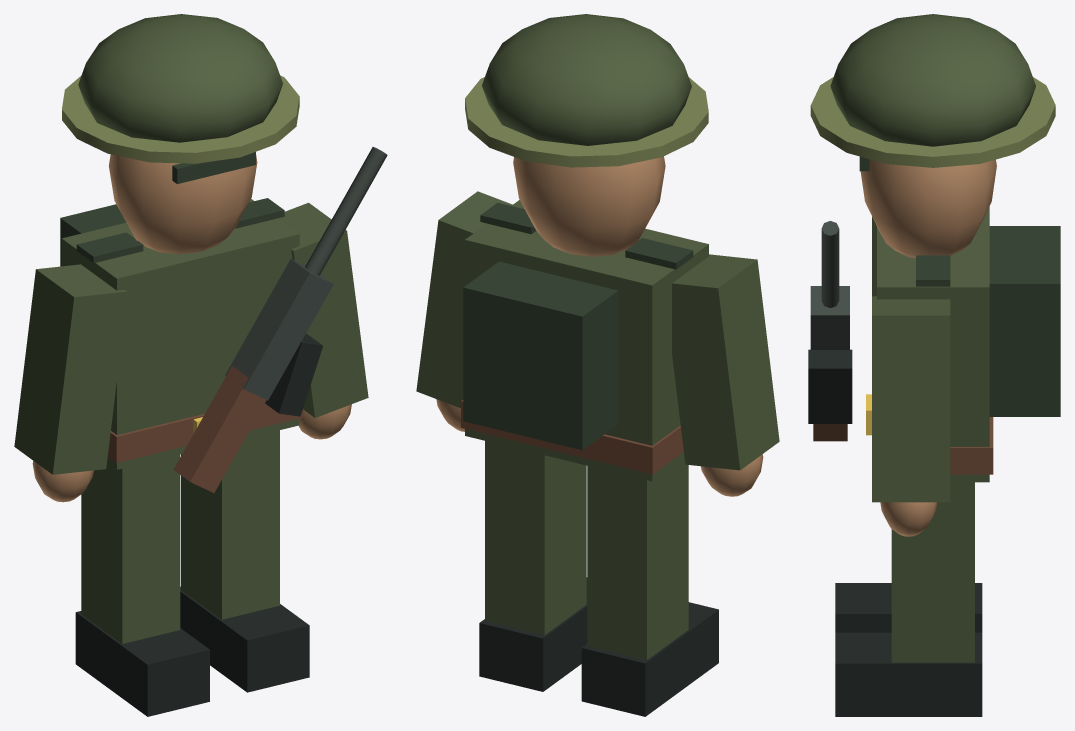
3 views of the same model, side by side, from view 1: azimuth 30°, elevation 25°; view 2: azimuth 150°, elevation 25°; view 3: azimuth 270°, elevation 25° (orthographic). The views are drawn at different scales.
Visible parts, largest first — view 1: vietnam-I; view 2: vietnam-I; view 3: vietnam-I.
Boxes of the visible parts, left/top/right/bottom form: vietnam-I: left=14, top=14, right=387, bottom=716; vietnam-I: left=416, top=14, right=779, bottom=716; vietnam-I: left=808, top=14, right=1060, bottom=716.
Size of the model in its own units: 0.7608 by 1.46 by 0.515.
